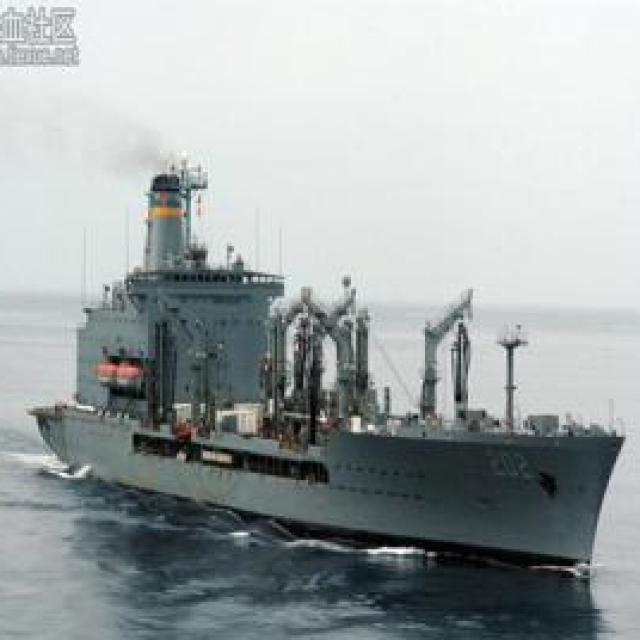navalvessels: (34, 170, 610, 604)
